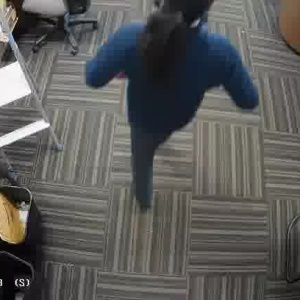person: (95, 0, 246, 185)
